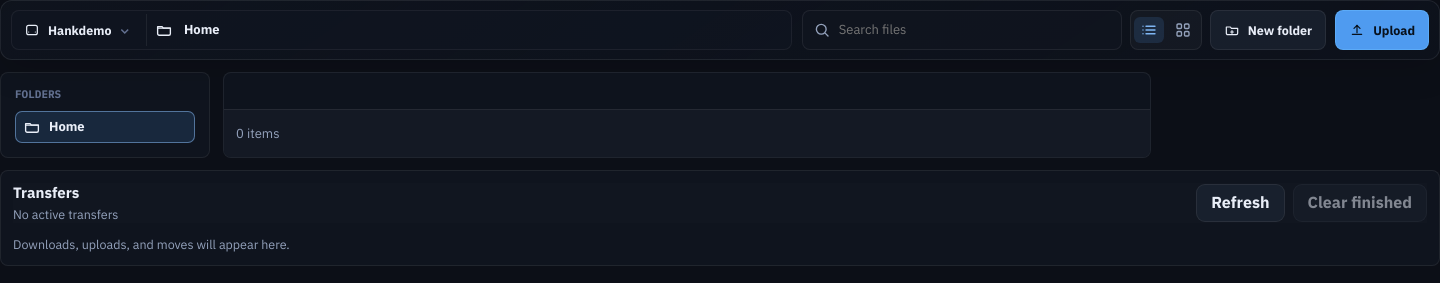
FileServerPage › shows partial indexed results without claiming the share has no matches
Type "invoice" into the search field labelled "Search files". click: (975,30)
box: [839,21,1111,39]
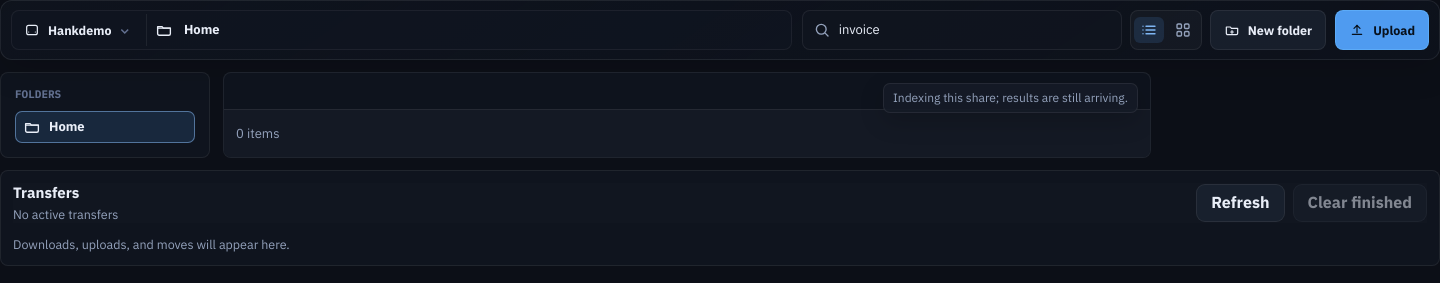
expect the text "Indexing this share; results are still arriving." is shown: met, box [883,83,1138,109]
